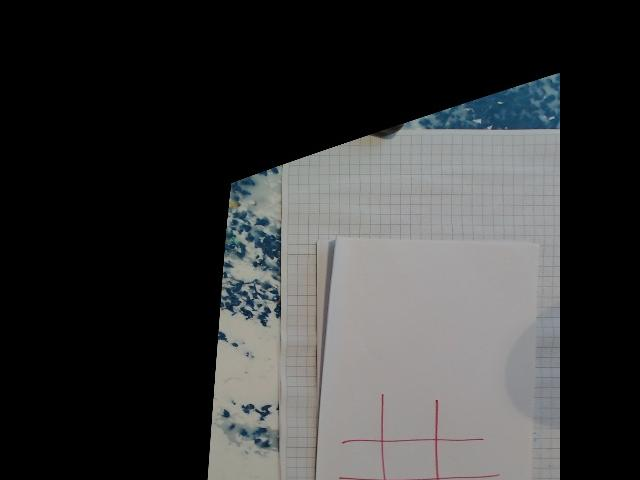grid: (337, 390, 495, 480)
